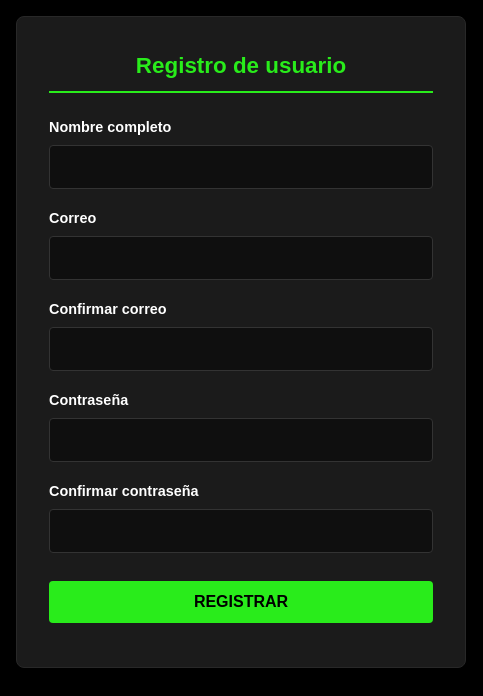
Registro › muestra el error de la API (por ejemplo, correo duplicado)
Type "Ana Pérez" into the field labelled "Nombre completo". click: coordinates (241, 167)
box: [49,145,433,189]
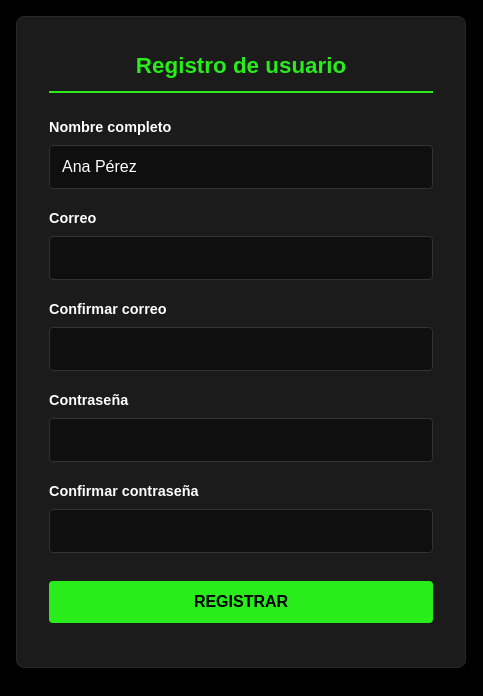
Type "ana@gmail.com" into the field labelled "Correo". click: coordinates (241, 258)
box: [49,236,433,280]
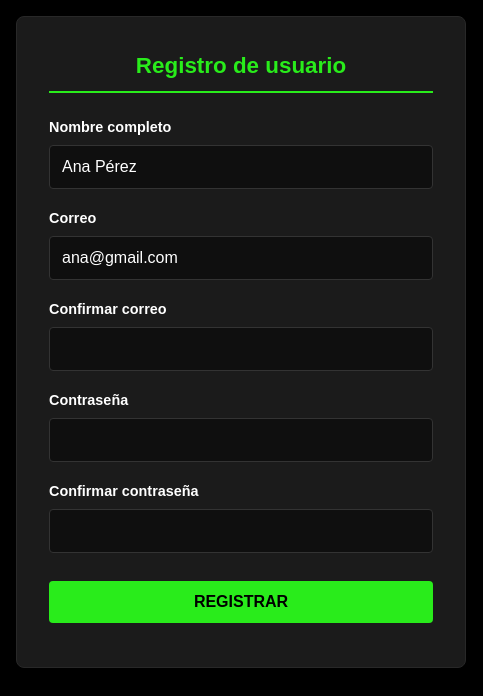
Type "ana@gmail.com" into the field labelled "Confirmar correo". click: coordinates (241, 349)
box: [49,327,433,371]
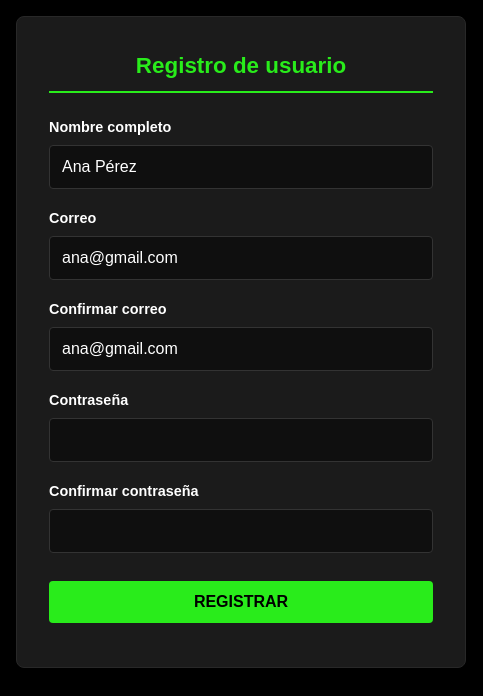
Type "Clave123!" into the password field labelled "Contraseña". click: coordinates (241, 440)
box: [49,418,433,462]
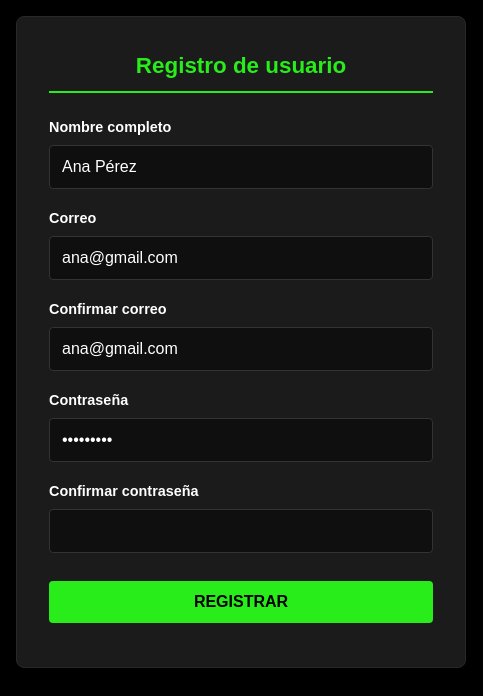
Type "Clave123!" into the password field labelled "Confirmar contraseña". click: coordinates (241, 531)
box: [49,509,433,553]
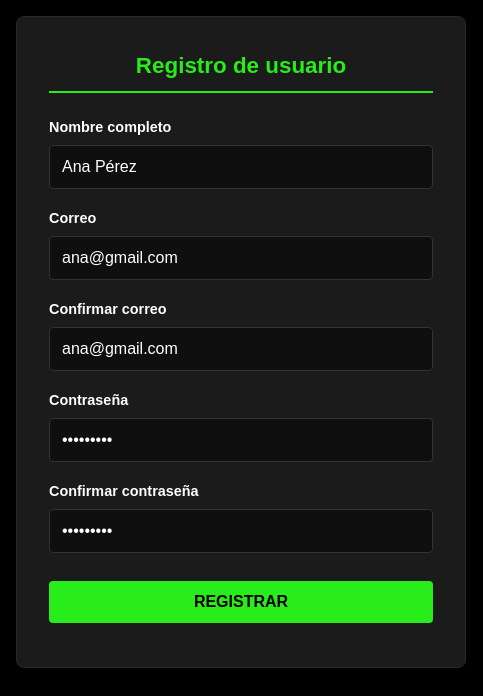
Click the button "Registrar". click: coordinates (241, 602)
box: [49,580,433,622]
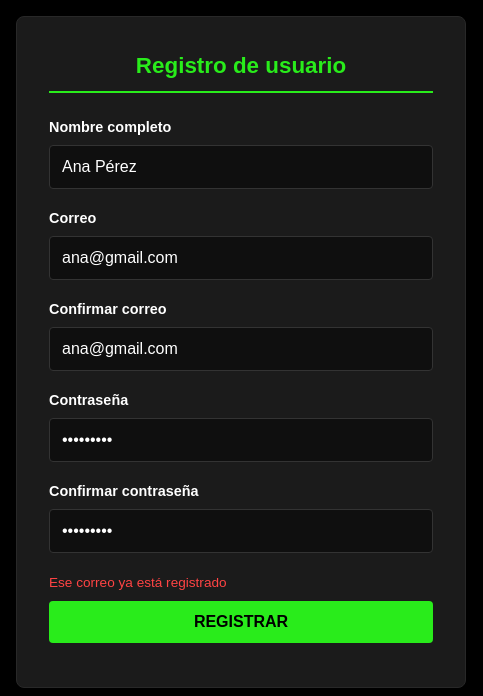
Check: the button "Registrar" is enabled, box [49,601,433,643]
Check: the message shows "ya está registrado", box [49,574,227,590]
